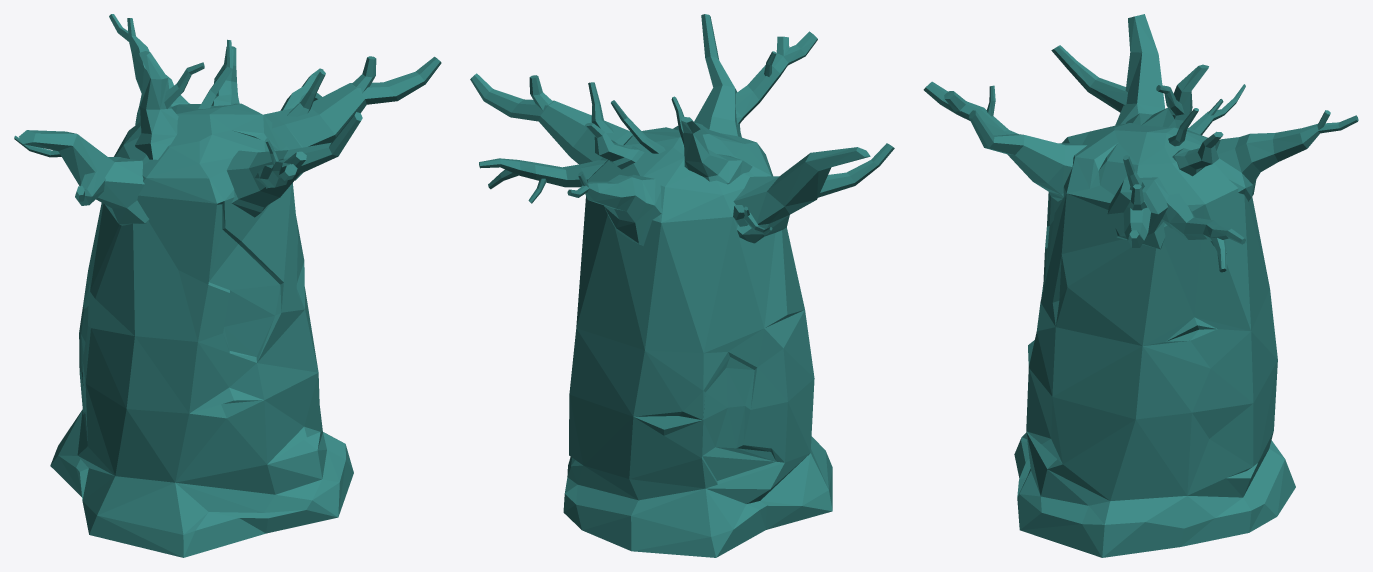
Rendered from tree-baobab-dead-b.fbx.
3 renders of one model, left to right at view 1: azimuth 30°, elevation 25°; view 2: azimuth 150°, elevation 25°; view 3: azimuth 270°, elevation 25°, orthographic. The views are drawn at different scales.
Parts seen in each view (by area): view 1: tree-baobab-dead-b; view 2: tree-baobab-dead-b; view 3: tree-baobab-dead-b.
Boxes of the visible parts, x1,y1,x2,y2 form: tree-baobab-dead-b: (14,14,441,557); tree-baobab-dead-b: (470,14,894,557); tree-baobab-dead-b: (923,14,1358,557).
Bounding box in the file's own units: 8.32 × 8.04 × 7.6.
